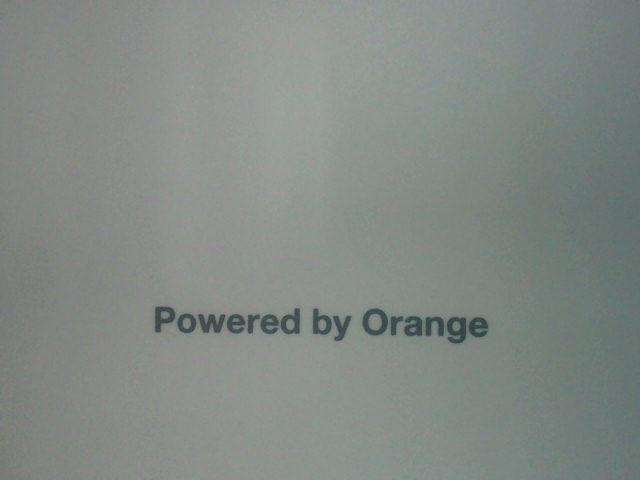AS_PowerByOrange: (146, 300, 496, 350)
